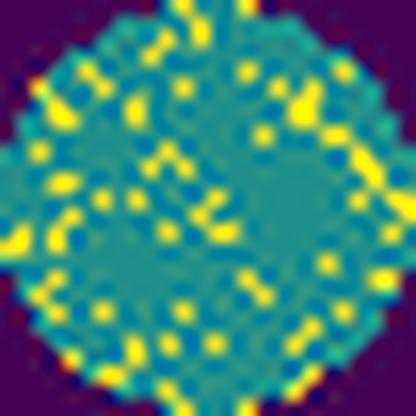Scratch: (262, 61, 416, 229)
